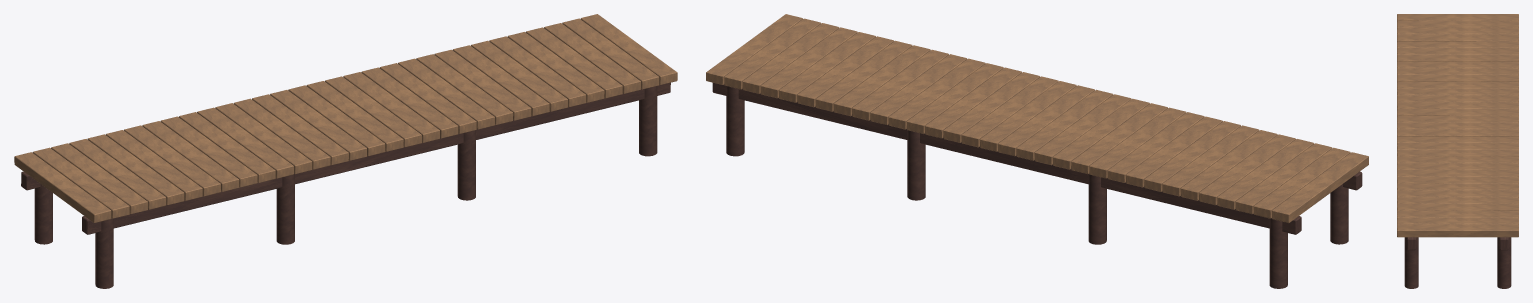
The model's file is pier.glb.
3 views of the same model, side by side, from view 1: azimuth 30°, elevation 25°; view 2: azimuth 150°, elevation 25°; view 3: azimuth 270°, elevation 25° (orthographic). The views are drawn at different scales.
Parts seen in each view (by area): view 1: pier; view 2: pier; view 3: pier.
Boxes of the visible parts, box(x1,y1,x2,y2) form: pier: box(14, 14, 677, 288); pier: box(706, 14, 1368, 288); pier: box(1397, 14, 1518, 288).
Bounding box in the file's own units: 8 × 1.08 × 1.9.
1 material, 1 textured.
